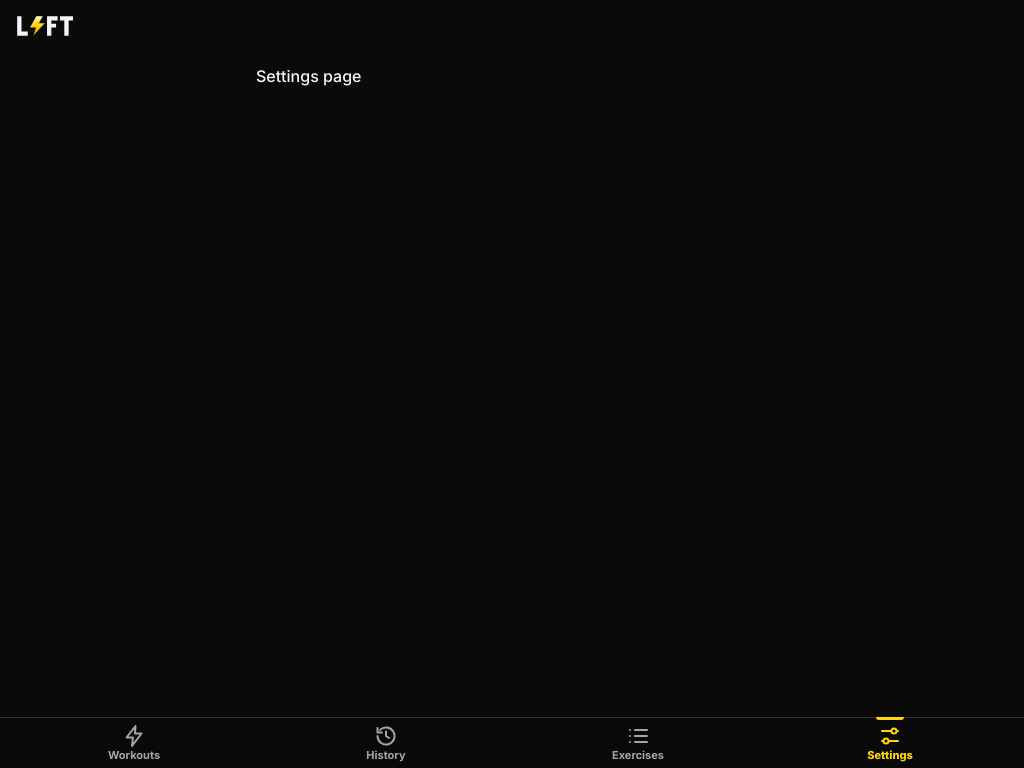
Test: app shell › the top bar shows the LIFT wordmark and links home
Click the link with class "app-header__brand".
click(45, 26)  # box [16,15,74,37]
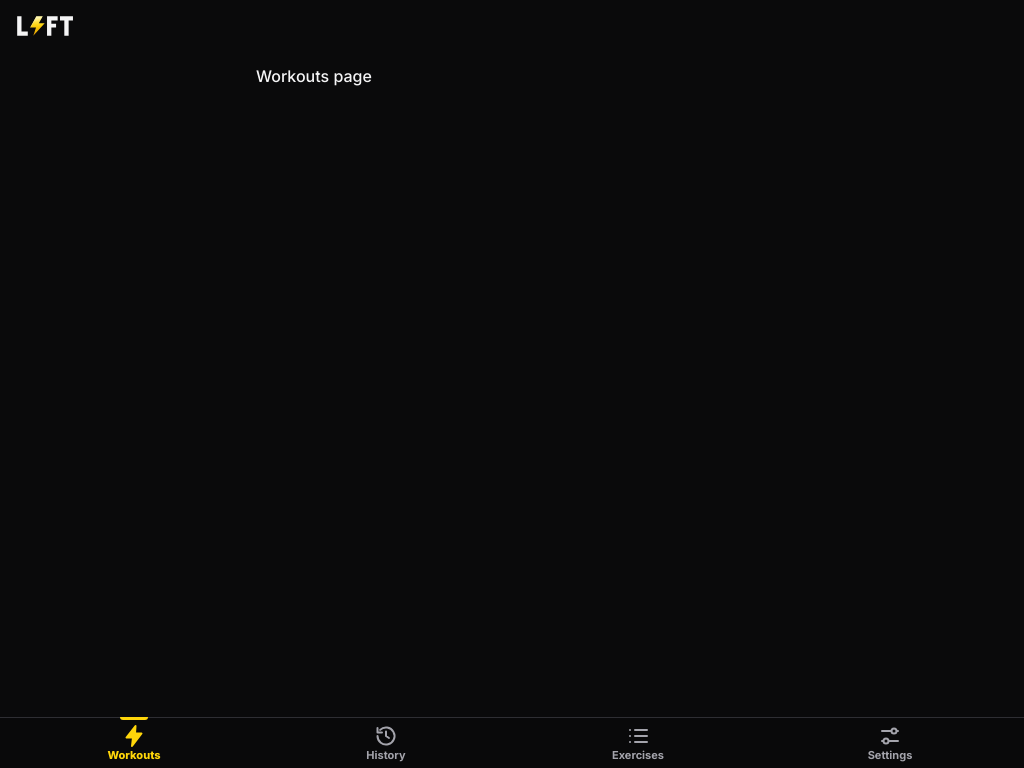
Result: the text "Workouts page" is shown at [256,66,372,86]
